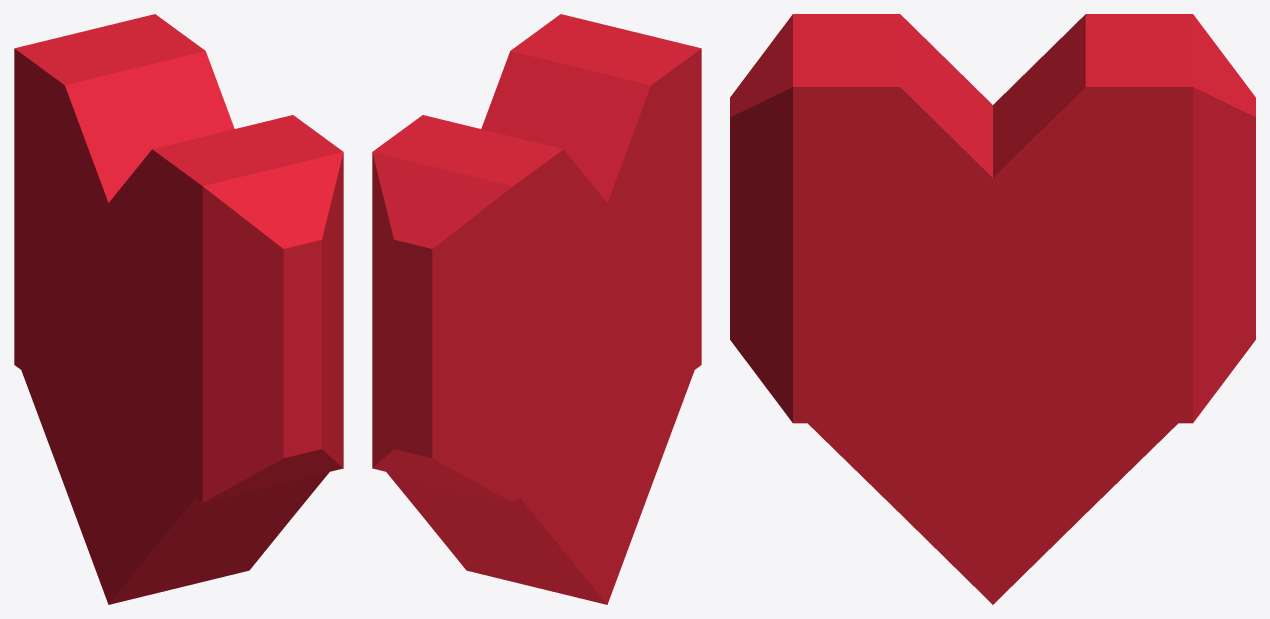
The model's file is heart_container.fbx.
3 renders of one model, left to right at view 1: azimuth 30°, elevation 25°; view 2: azimuth 150°, elevation 25°; view 3: azimuth 270°, elevation 25°, orthographic. The views are drawn at different scales.
Visible parts, largest first — view 1: Cube; view 2: Cube; view 3: Cube.
Part boxes in pixels (<box>): Cube: <box>14,14,343,604</box>; Cube: <box>372,14,701,604</box>; Cube: <box>730,14,1255,604</box>.
Bounding box in the file's own units: 93.15 × 308 × 283.
